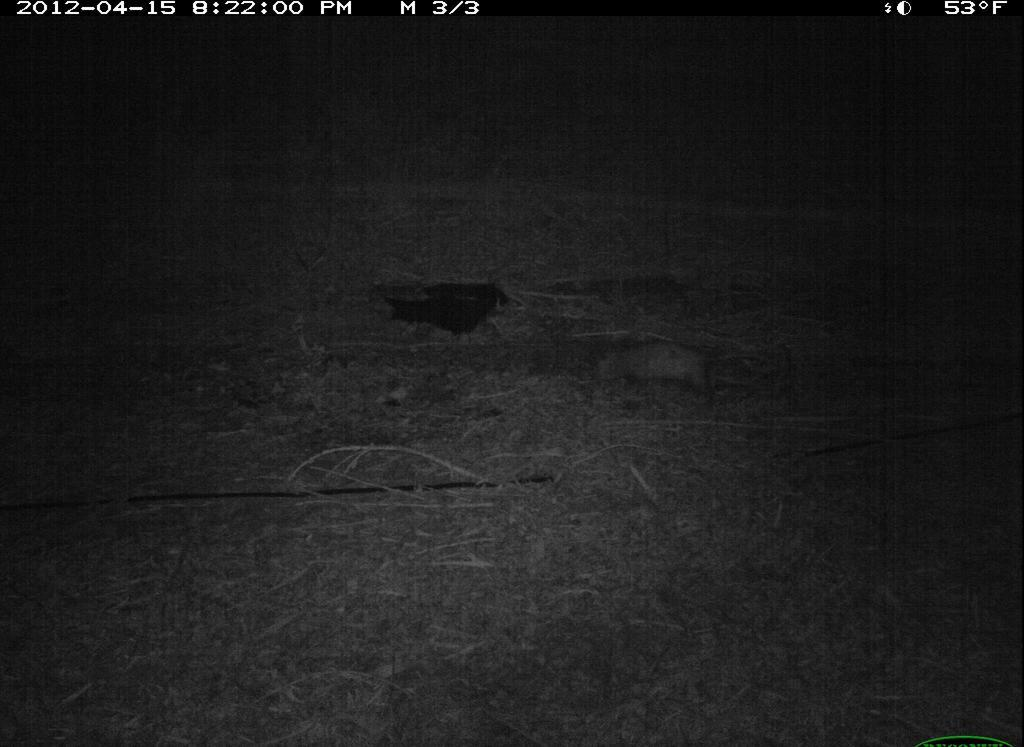opossum: (587, 327, 770, 414)
